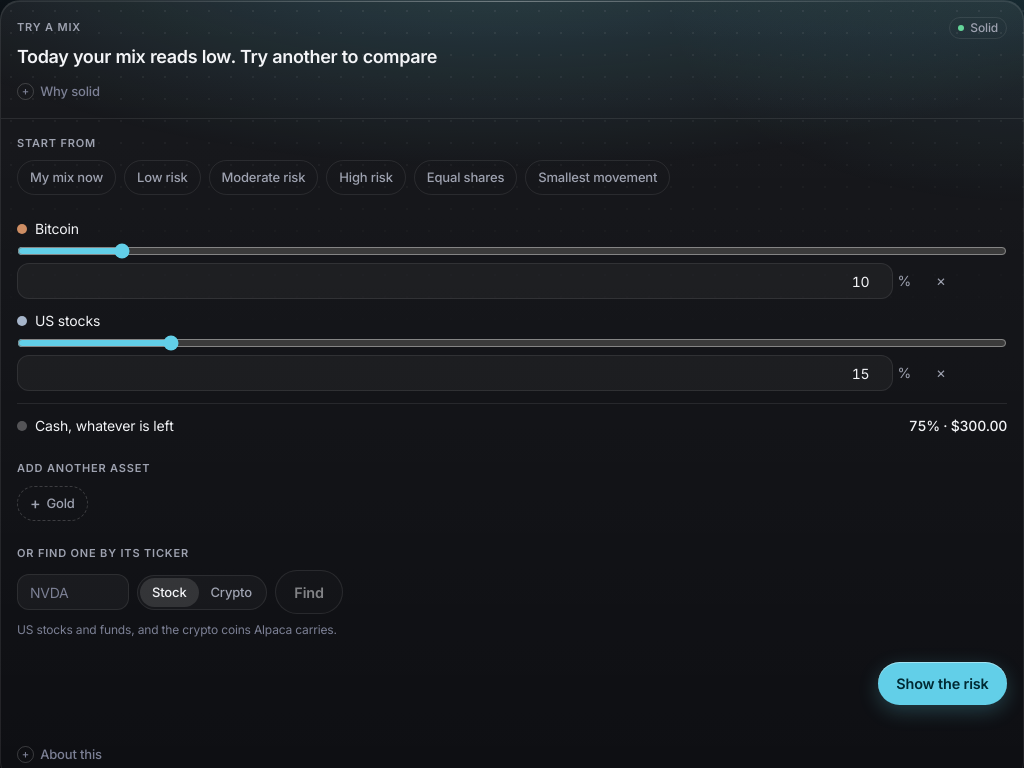
Test: LevelsPanel › refuses shares that add up to more than everything
Replace the text in the number field named "Bitcoin share, percent" with "95" at (455, 281), box [17, 263, 893, 299]
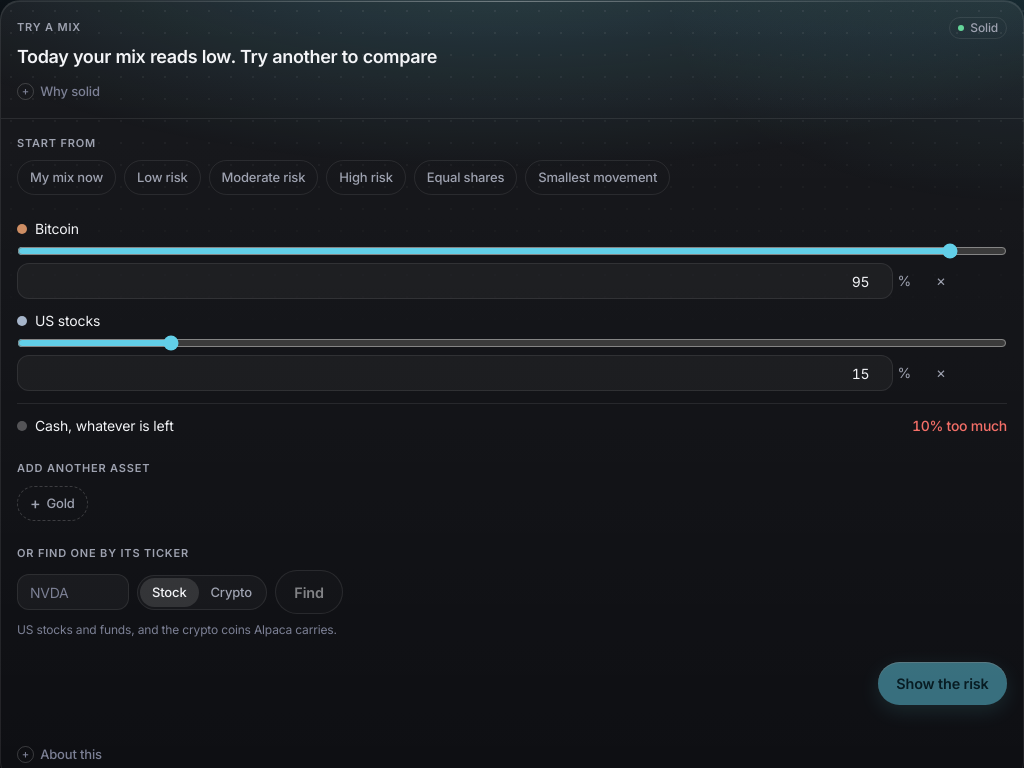
Expected: the text "10% too much" is shown, [912, 416, 1007, 436]
Expected: the button "Show the risk" is disabled, [878, 662, 1007, 705]
